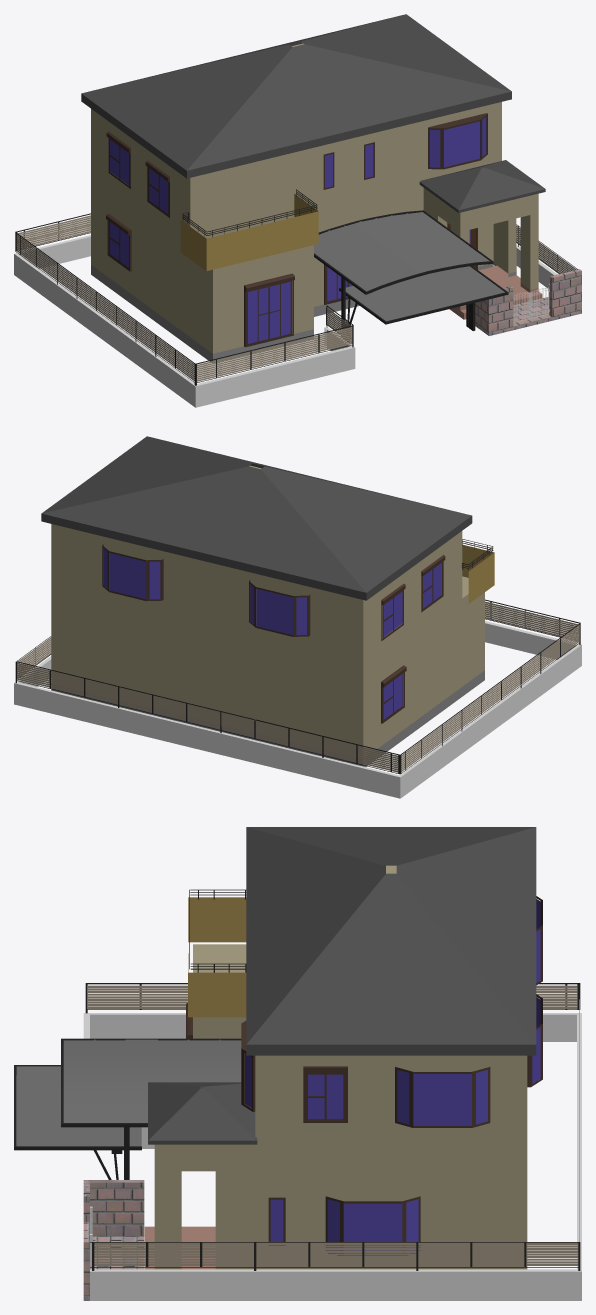
File: House_001_Middle.fbx
The picture shows the model from 3 angles, top to bottom: view 1: azimuth 30°, elevation 25°; view 2: azimuth 150°, elevation 25°; view 3: azimuth 270°, elevation 25°; orthographic projection. The views are drawn at different scales.
Parts seen in each view (by area): view 1: house_001_middle; view 2: house_001_middle; view 3: house_001_middle.
Boxes of the visible parts, <box> form: house_001_middle: <box>14,14,581,407</box>; house_001_middle: <box>14,436,581,798</box>; house_001_middle: <box>14,827,581,1300</box>.
Size of the model in its own units: 1239 by 706 by 1149.
Materials: 17 (1 with a texture image).
